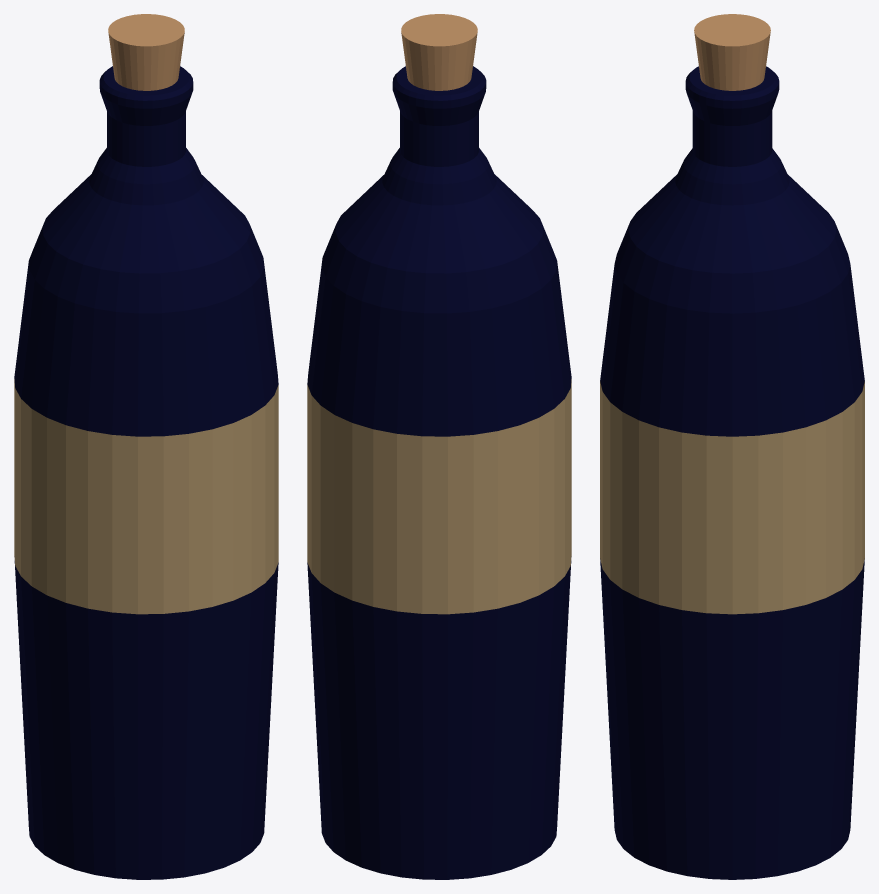
The model's file is WineBottle2_Blue.fbx.
The picture shows the model from 3 angles, left to right: view 1: azimuth 30°, elevation 25°; view 2: azimuth 150°, elevation 25°; view 3: azimuth 270°, elevation 25°; orthographic projection.
Parts seen in each view (by area): view 1: WineBottle V2 Blue; view 2: WineBottle V2 Blue; view 3: WineBottle V2 Blue.
Boxes of the visible parts, x1,y1,x2,y2 form: WineBottle V2 Blue: (14, 14, 278, 879); WineBottle V2 Blue: (307, 14, 571, 879); WineBottle V2 Blue: (600, 14, 864, 879).
Size of the model in its own units: 7.5 by 25 by 7.5.
